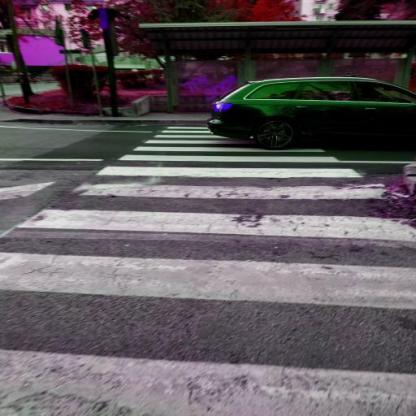crosswalk: (0, 206, 416, 318), (88, 154, 362, 181)
